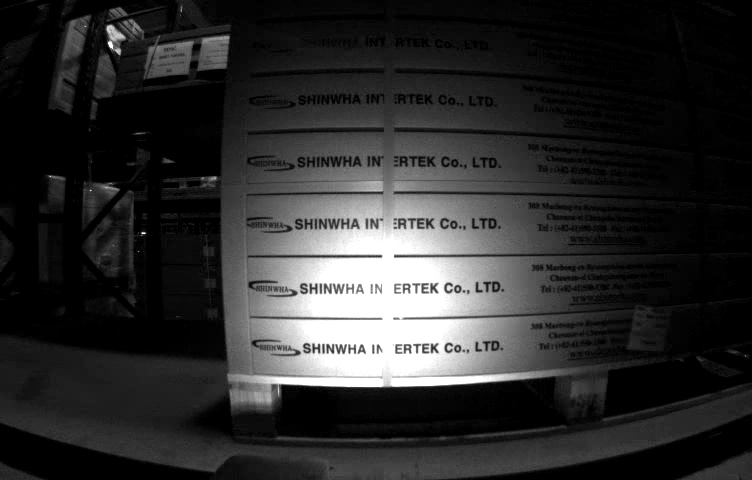True Barcode: (628, 306, 670, 351)
